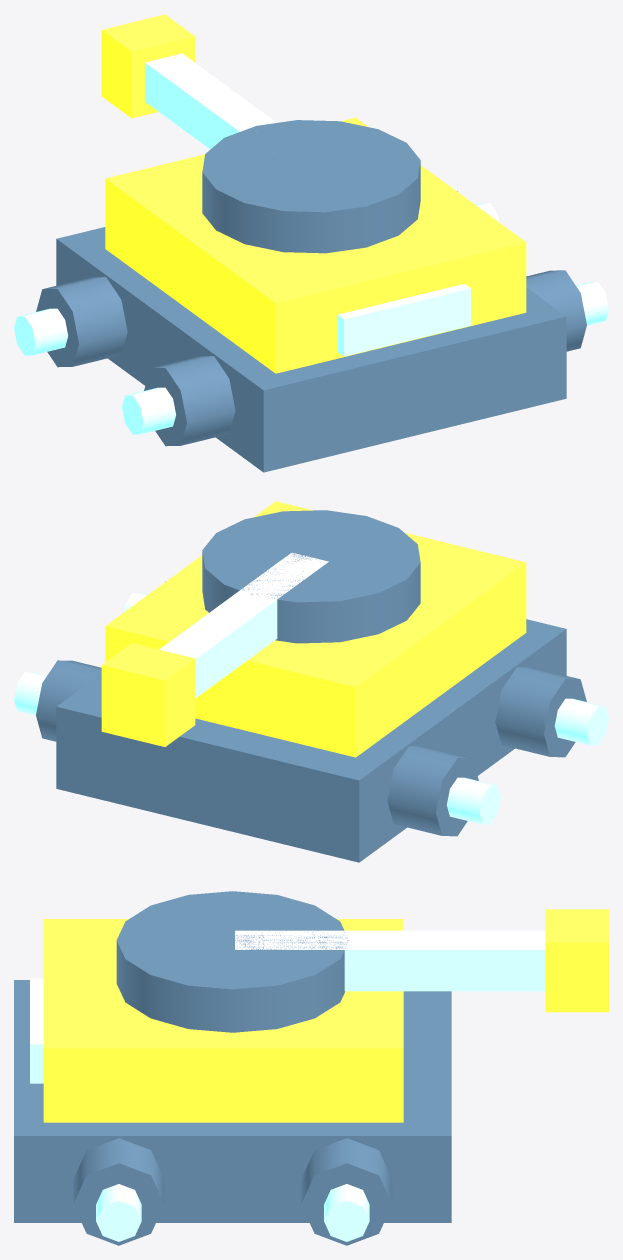
The model's file is cyber-tank-balanced.glb.
3 renders of one model, top to bottom at view 1: azimuth 30°, elevation 25°; view 2: azimuth 150°, elevation 25°; view 3: azimuth 270°, elevation 25°, orthographic. The views are drawn at different scales.
Visible parts, largest first — view 1: LOWER_CHASSIS, ARMORED_BODY, TURRET_DOME, ENERGY_BARREL, ENERGY_REAR, MUZZLE, WHEEL_-0.92_1, WHEEL_-0.92_0, WHEEL_0.92_1, HUB_-0.92_0, HUB_-0.92_1, HUB_0.92_1; view 2: LOWER_CHASSIS, ARMORED_BODY, TURRET_DOME, MUZZLE, ENERGY_BARREL, WHEEL_-0.92_1, WHEEL_-0.92_0, WHEEL_0.92_0, HUB_-0.92_1, HUB_-0.92_0, HUB_0.92_0; view 3: ARMORED_BODY, LOWER_CHASSIS, TURRET_DOME, ENERGY_BARREL, MUZZLE, WHEEL_0.92_1, WHEEL_0.92_0, HUB_0.92_0, HUB_0.92_1, ENERGY_REAR.
Part boxes in pixels (box(x1,y1,x2,y2)): LOWER_CHASSIS: box(56, 227, 566, 472); ARMORED_BODY: box(105, 117, 526, 373); TURRET_DOME: box(202, 120, 420, 253); ENERGY_BARREL: box(145, 53, 276, 149); ENERGY_REAR: box(337, 284, 470, 356); MUZZLE: box(101, 14, 195, 118); WHEEL_-0.92_1: box(144, 356, 235, 446); WHEEL_-0.92_0: box(36, 277, 127, 367); WHEEL_0.92_1: box(526, 270, 586, 351); HUB_-0.92_0: box(14, 308, 68, 355); HUB_-0.92_1: box(122, 387, 175, 434); HUB_0.92_1: box(576, 282, 608, 325); LOWER_CHASSIS: box(56, 619, 566, 862); ARMORED_BODY: box(105, 501, 526, 757); TURRET_DOME: box(202, 510, 420, 643); MUZZLE: box(101, 643, 195, 746); ENERGY_BARREL: box(159, 552, 328, 698); WHEEL_-0.92_1: box(495, 667, 586, 757); WHEEL_-0.92_0: box(387, 746, 478, 836); WHEEL_0.92_0: box(36, 660, 101, 741); HUB_-0.92_1: box(554, 698, 608, 745); HUB_-0.92_0: box(447, 777, 500, 824); HUB_0.92_0: box(14, 672, 46, 715); ARMORED_BODY: box(43, 919, 403, 1122); LOWER_CHASSIS: box(14, 980, 451, 1222); TURRET_DOME: box(116, 891, 348, 1032); ENERGY_BARREL: box(235, 930, 545, 991); MUZZLE: box(545, 909, 608, 1012); WHEEL_0.92_1: box(73, 1138, 164, 1245); WHEEL_0.92_0: box(301, 1138, 392, 1245); HUB_0.92_0: box(324, 1184, 369, 1241); HUB_0.92_1: box(96, 1184, 141, 1241); ENERGY_REAR: box(30, 978, 43, 1083).
Size of the model in its own units: 2.49 by 1.06 by 2.61.
